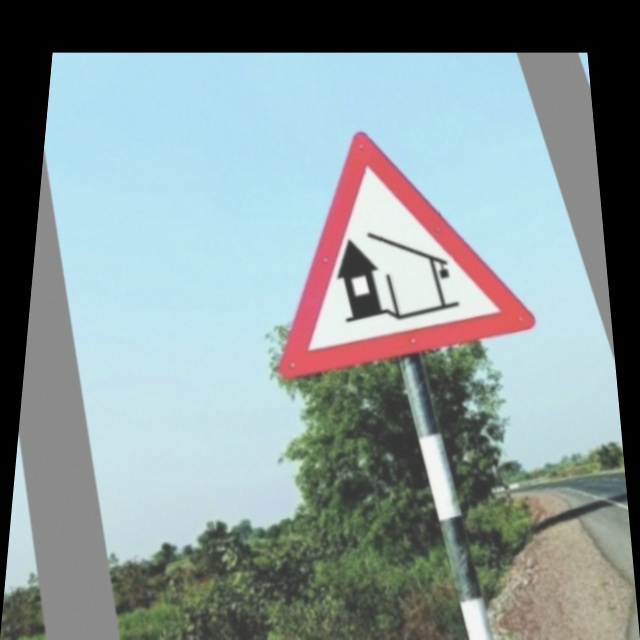Barrier_Ahead: (227, 108, 544, 390)
